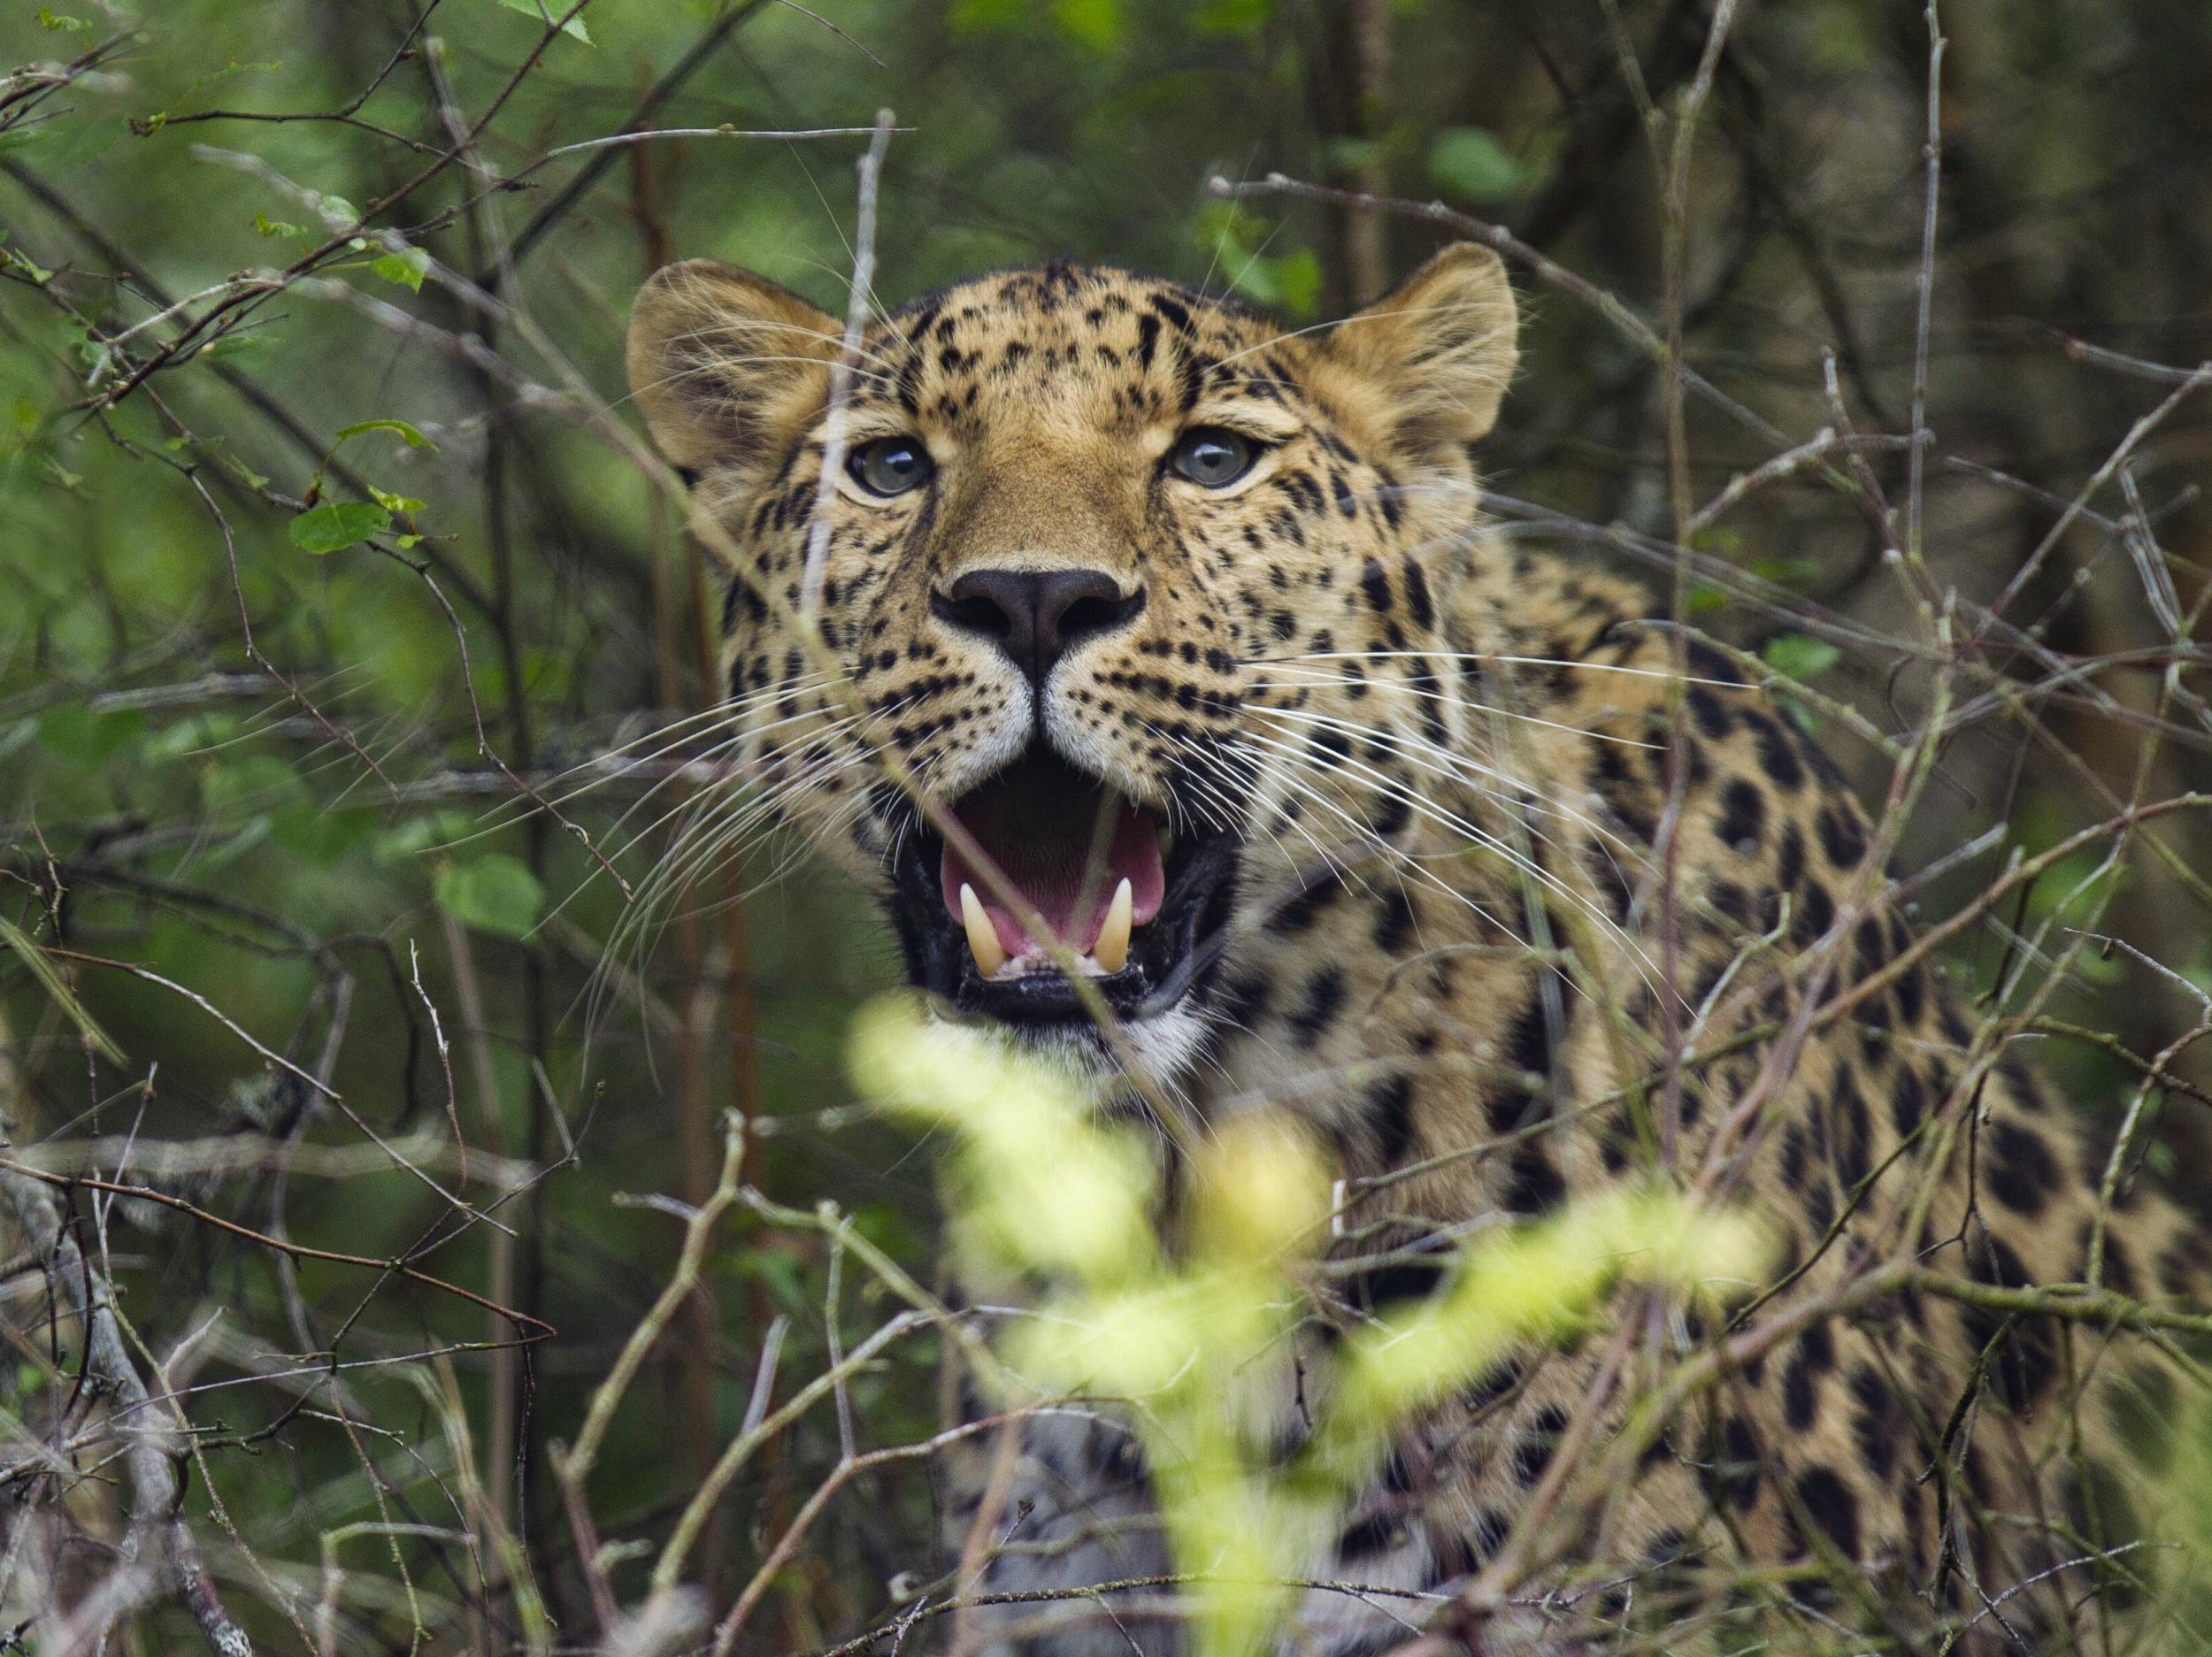amur_leopard: (553, 141, 1979, 1344)
